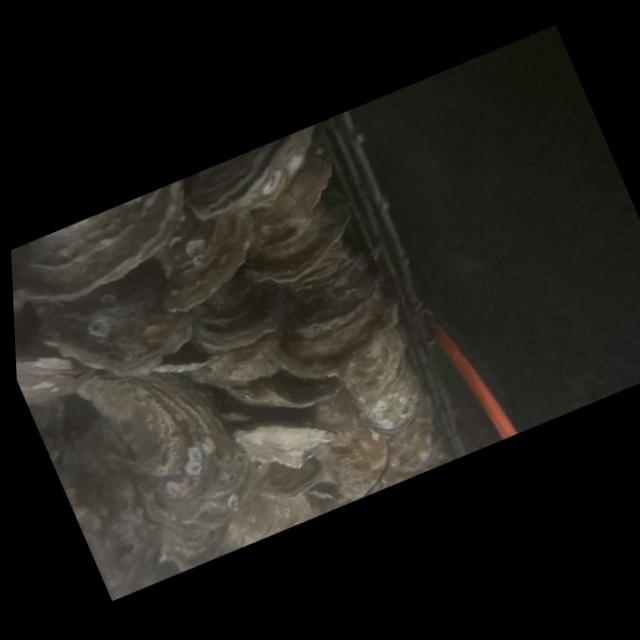Oyster-Closed: (72, 335, 265, 560), (8, 179, 212, 323), (29, 256, 209, 409), (127, 188, 278, 319), (239, 205, 372, 292), (179, 274, 286, 363), (347, 362, 438, 448), (317, 422, 406, 505), (332, 327, 420, 404), (270, 246, 374, 311), (249, 441, 332, 509)
Oyster-Indeterminate: (260, 286, 417, 394), (227, 139, 355, 245), (151, 320, 282, 416), (230, 395, 347, 485), (198, 469, 316, 557), (15, 329, 106, 421), (368, 390, 457, 484), (220, 357, 320, 438)
Oyster-Open: (178, 125, 340, 234)
